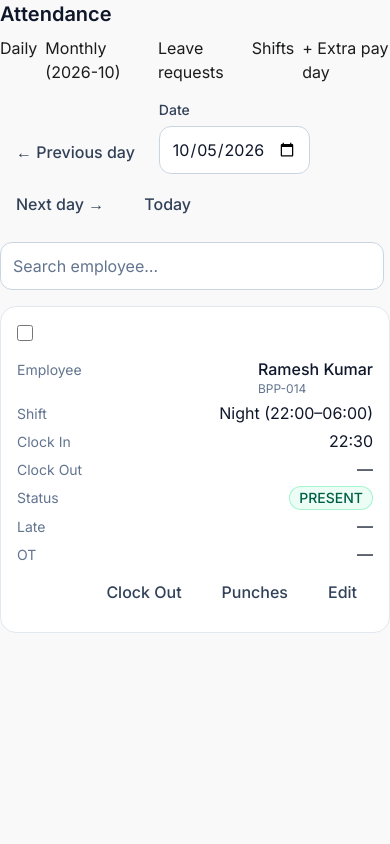
Scenario: R2-369 / R2-370 the Edit dialog › a night shift wraps past midnight: 22:30 in -> 06:30 out (R2-372)
This screenshot has width=390, height=844.
Click the button "Edit" at (342, 592), box [312,570,373,614]
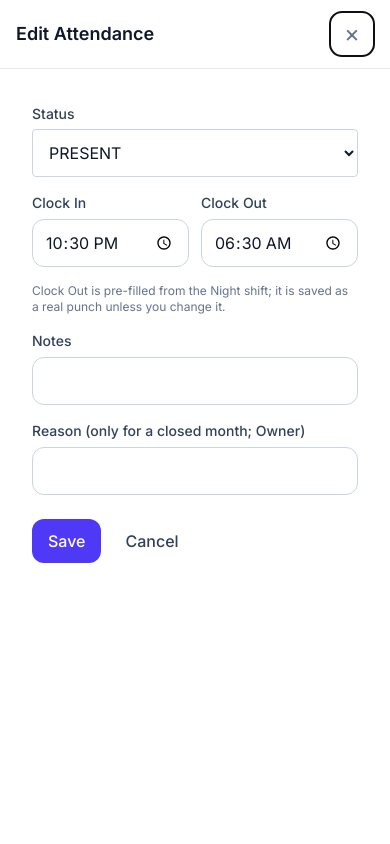
Now the time field labelled "Clock In" holds "22:30", box [32,219,189,267]
Now the time field labelled "Clock Out" holds "06:30", box [201,219,358,267]
